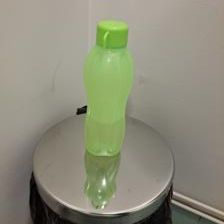bottle: (80, 19, 136, 157)
